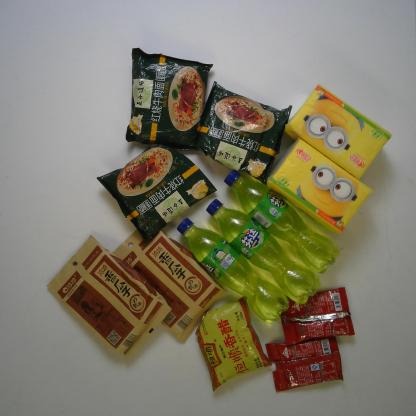Dried Food: (45, 232, 175, 364), (109, 224, 228, 346)
Drink: (173, 214, 291, 325), (220, 168, 340, 277), (204, 197, 321, 306)
Instant Drink: (260, 333, 350, 393), (279, 287, 357, 347)
Instant Noodles: (95, 136, 218, 250), (188, 76, 295, 185), (124, 45, 214, 159)
Seasoner: (186, 294, 272, 392)
Tissue: (262, 136, 374, 235), (284, 81, 394, 180)
